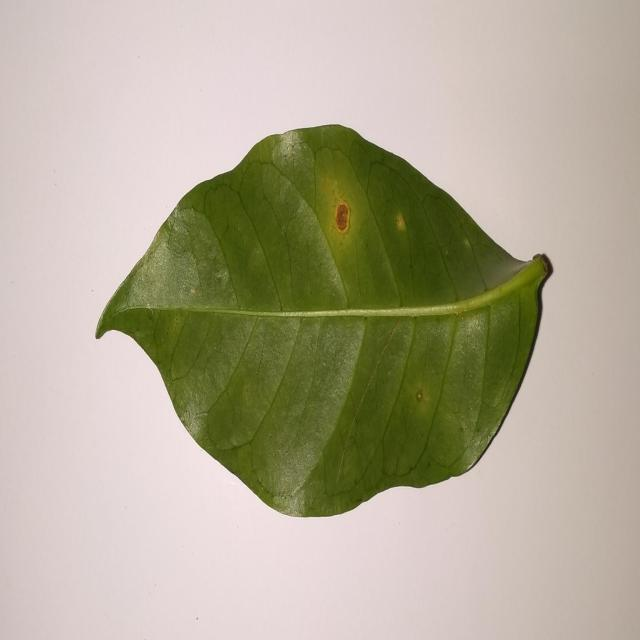Enfermedad-Mancha-de-hierro: (95, 124, 553, 519)
